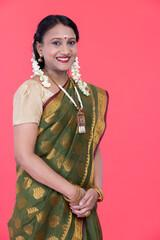Human: (9, 15, 126, 240)
